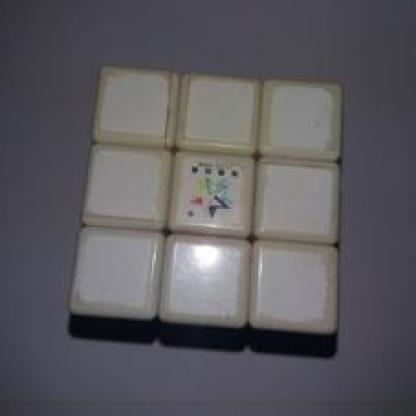cube: (80, 41, 361, 347)
